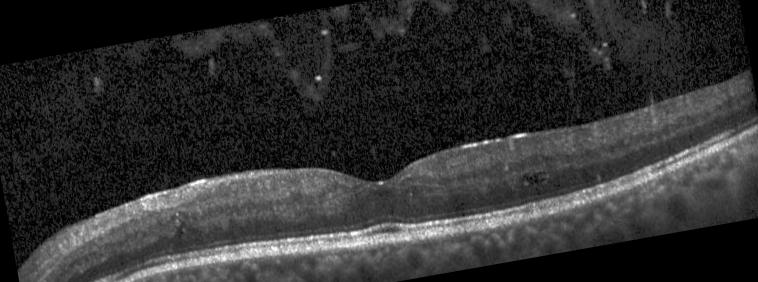intraretinal_cyst: (524, 171, 548, 183), (172, 221, 186, 237), (172, 211, 180, 220)
